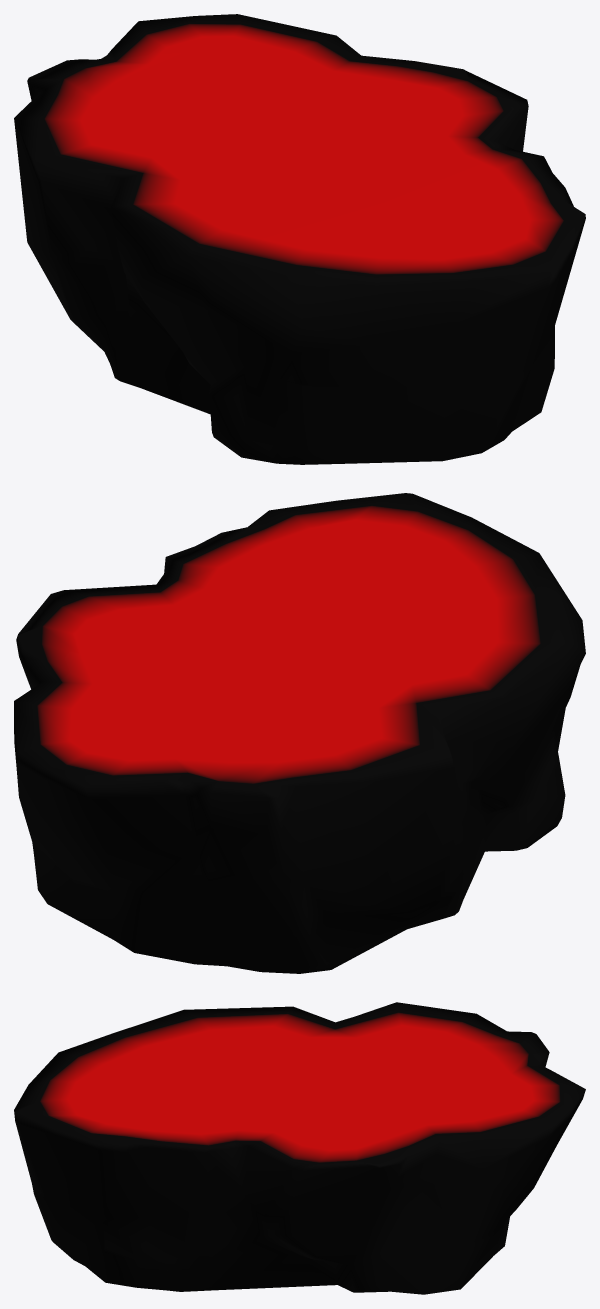
File: Shitou_hill_11.fbx
The picture shows the model from 3 angles, top to bottom: view 1: azimuth 30°, elevation 25°; view 2: azimuth 150°, elevation 25°; view 3: azimuth 270°, elevation 25°; orthographic projection. The views are drawn at different scales.
Parts seen in each view (by area): view 1: Shitou_hill_11_LOD0; view 2: Shitou_hill_11_LOD0; view 3: Shitou_hill_11_LOD0.
Part boxes in pixels (bbox=[...]): Shitou_hill_11_LOD0: bbox=[14, 14, 585, 464]; Shitou_hill_11_LOD0: bbox=[14, 493, 585, 973]; Shitou_hill_11_LOD0: bbox=[14, 1002, 585, 1294].
Bounding box in the file's own units: 334 × 145 × 479.
